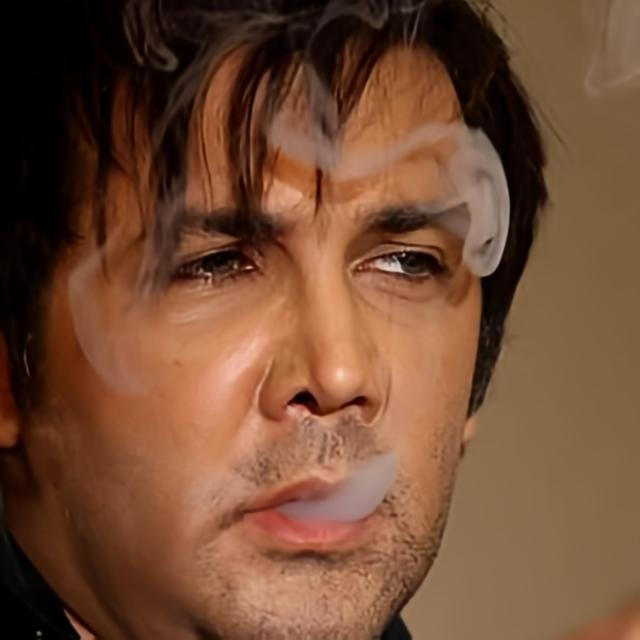anger: (62, 43, 492, 635)
